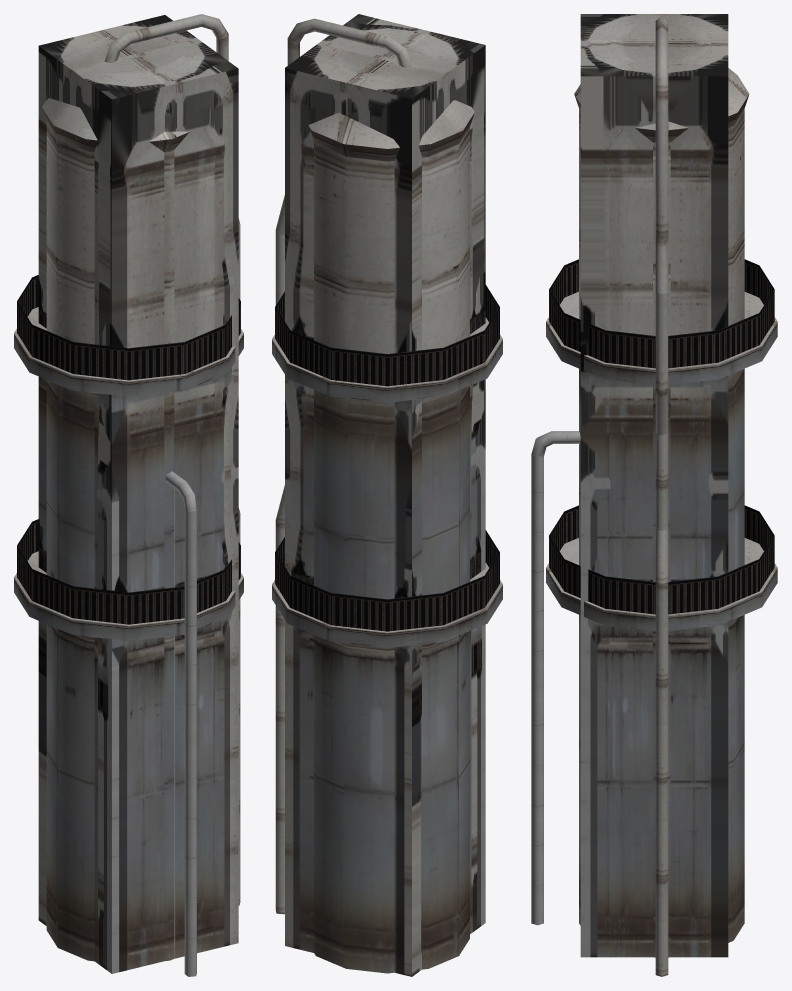
Rendered from dz_industrial_24.fbx.
3 views of the same model, side by side, from view 1: azimuth 30°, elevation 25°; view 2: azimuth 150°, elevation 25°; view 3: azimuth 270°, elevation 25° (orthographic).
Parts seen in each view (by area): view 1: dz_industrial_24_LOD0; view 2: dz_industrial_24_LOD0; view 3: dz_industrial_24_LOD0.
Boxes of the visible parts, x1,y1,x2,y2 form: dz_industrial_24_LOD0: (14, 14, 243, 976); dz_industrial_24_LOD0: (272, 14, 502, 976); dz_industrial_24_LOD0: (531, 14, 777, 976).
Size of what is drawn, in the model's own units: 4.58 by 18.65 by 4.6.
